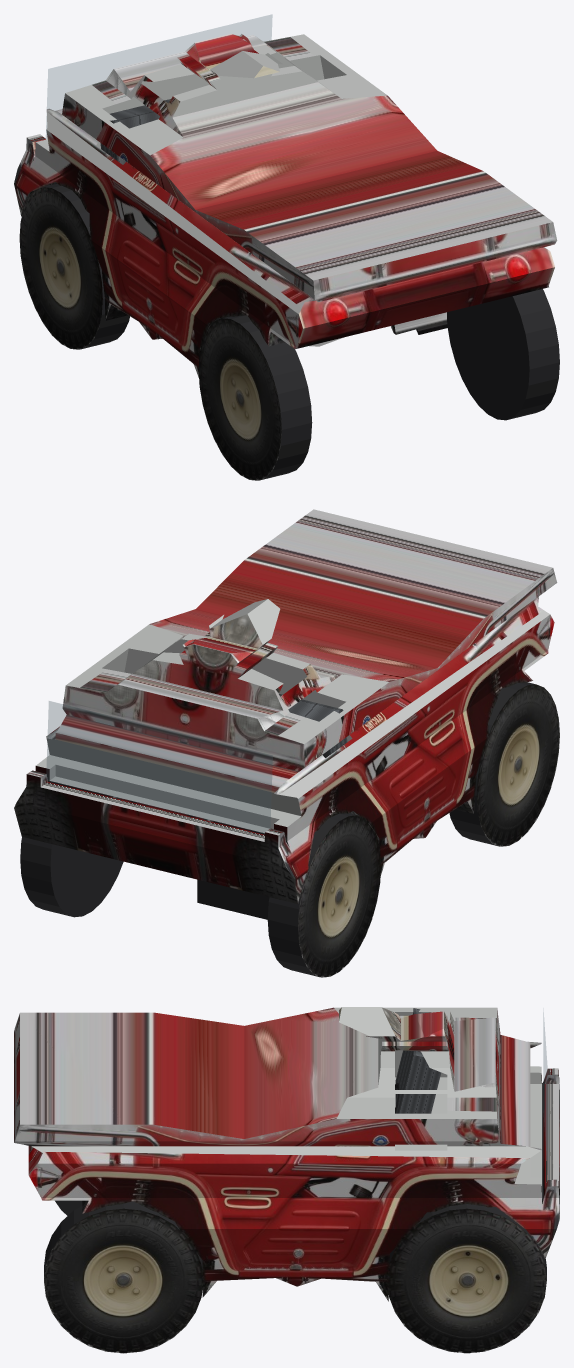
File: atv.glb
3 views of the same model, one above another, from view 1: azimuth 30°, elevation 25°; view 2: azimuth 150°, elevation 25°; view 3: azimuth 270°, elevation 25° (orthographic). The views are drawn at different scales.
Parts seen in each view (by area): view 1: atv, wheel_BL, wheel_BR, wheel_FL, atv_cabin; view 2: atv, atv_cabin, wheel_FL, wheel_BL, wheel_FR; view 3: atv, wheel_BR, wheel_FR, atv_cabin.
Part boxes in pixels (x1,y1,x2,y2): atv: [14, 33, 557, 377]; wheel_BL: [198, 315, 312, 480]; wheel_BR: [447, 289, 559, 420]; wheel_FL: [19, 183, 129, 349]; atv_cabin: [46, 14, 272, 184]; atv: [14, 509, 557, 903]; atv_cabin: [46, 694, 347, 919]; wheel_FL: [267, 813, 381, 977]; wheel_BL: [449, 682, 559, 846]; wheel_FR: [20, 837, 123, 917]; atv: [14, 1007, 559, 1301]; wheel_BR: [44, 1201, 203, 1353]; wheel_FR: [387, 1204, 546, 1353]; atv_cabin: [395, 1008, 548, 1201].
Bounding box in the file's own units: 1.19 × 1.19 × 2.09.
11 materials, 4 textured.
